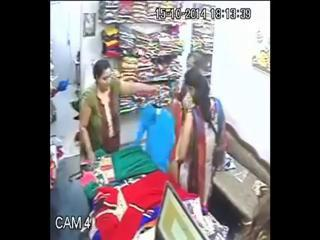Normal: (78, 59, 165, 164)
